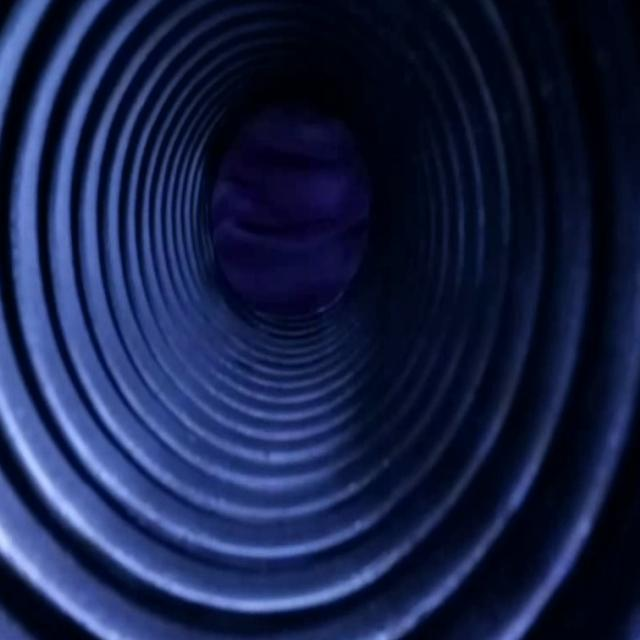block: (198, 97, 370, 320)
